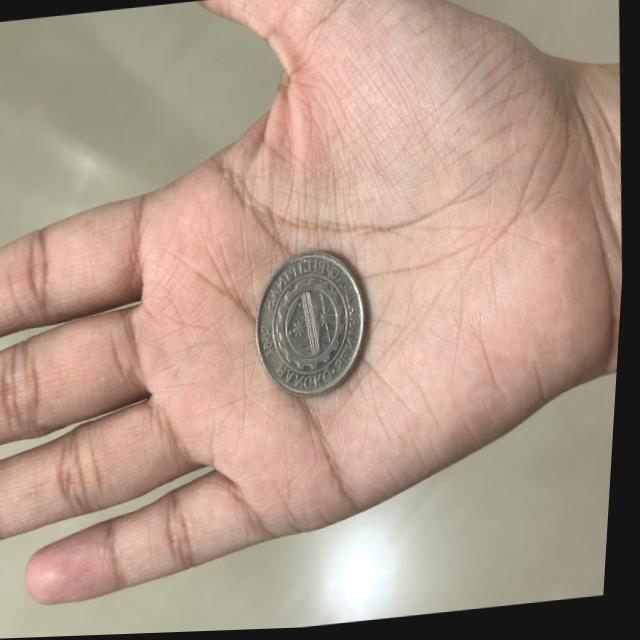1_Old_Back: (266, 265, 363, 385)
